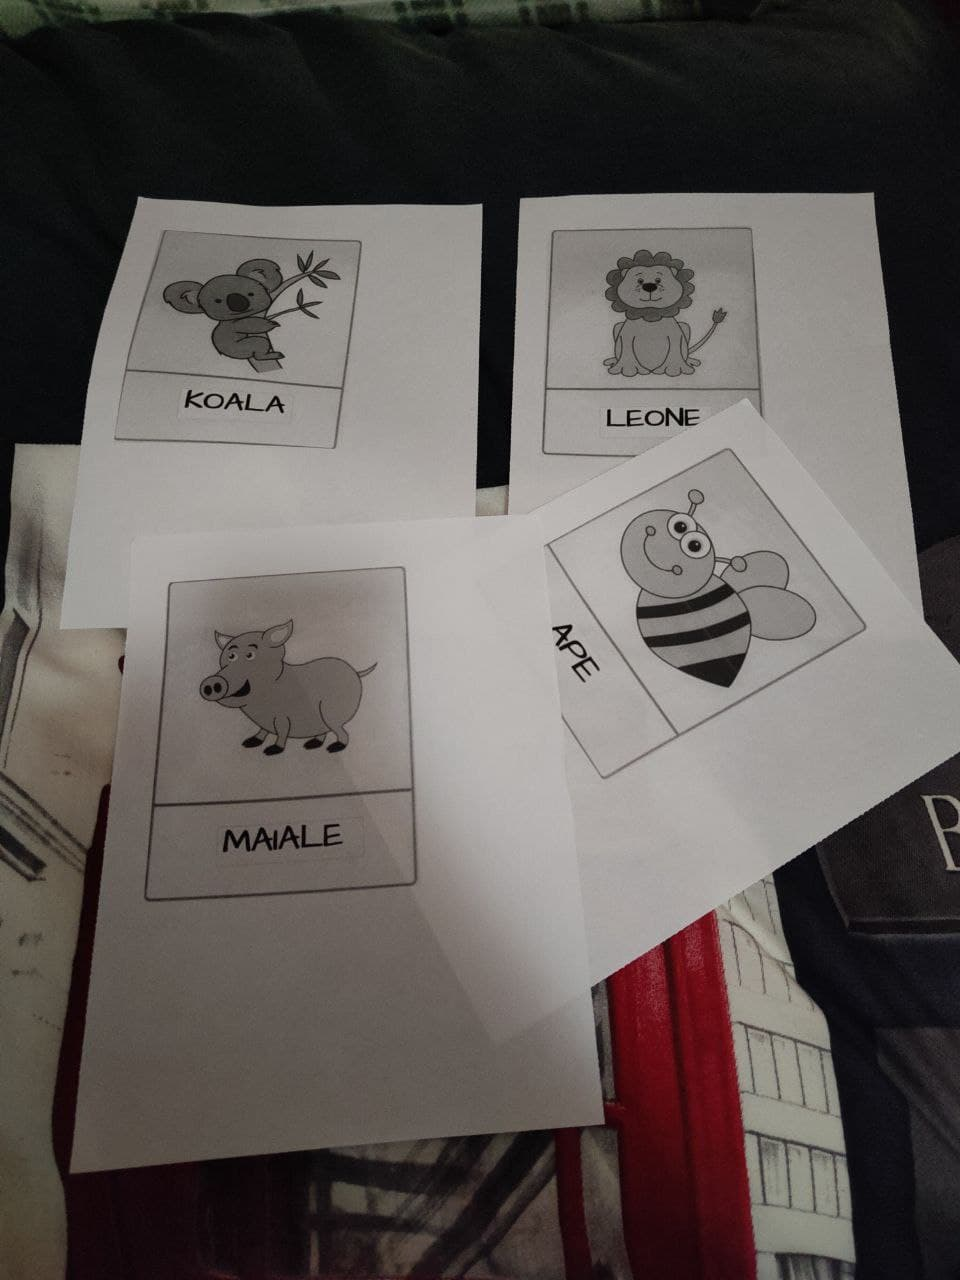ape: (529, 503, 816, 711)
koala: (160, 233, 351, 444)
leone: (551, 237, 752, 433)
maiale: (171, 584, 413, 879)
